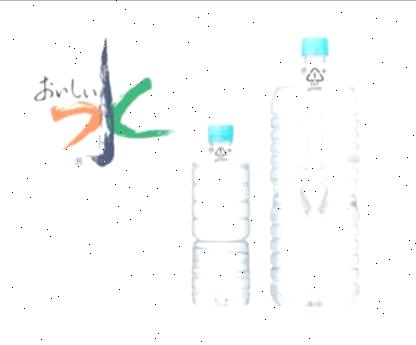Plastic Bottle: (272, 37, 361, 306), (192, 124, 251, 308)
